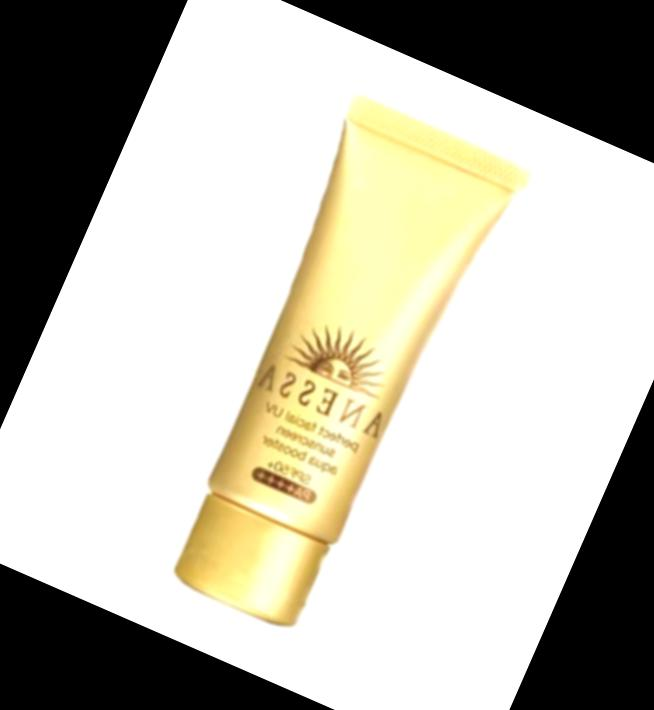cosmetic: (145, 93, 536, 649)
